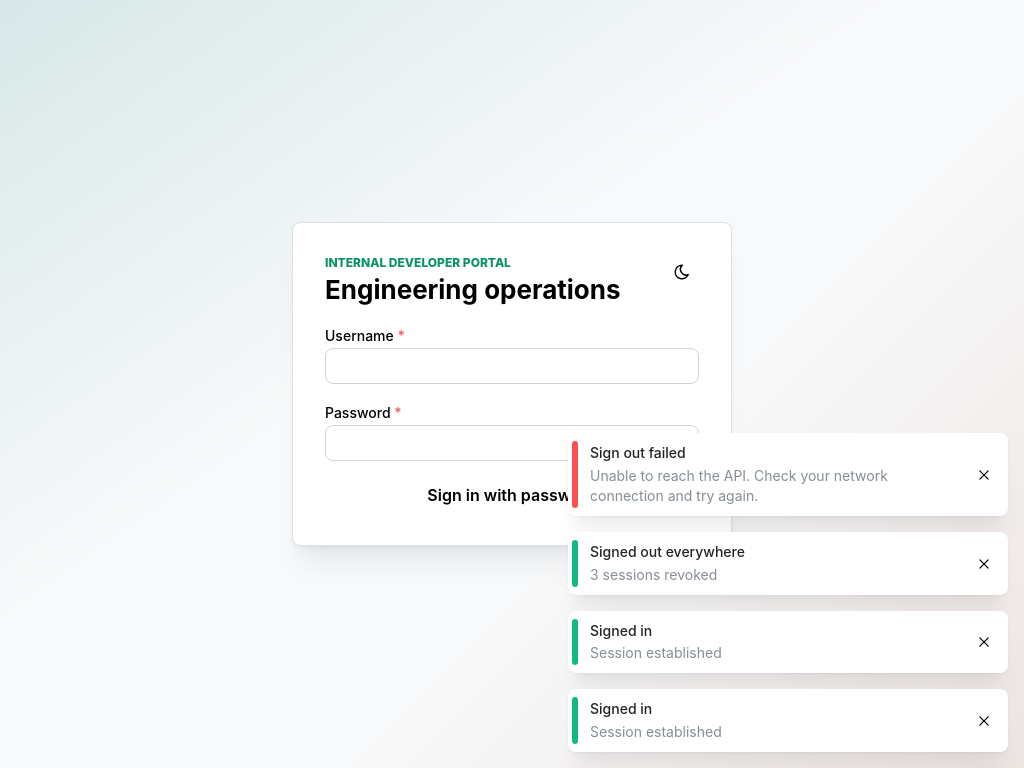
Test: App cookie session lifecycle › rejects a password login whose cookie session is not a password session
The image size is (1024, 768).
In the field labelled "Username *": (512, 366) [325,348,699,384], type "portal-user"
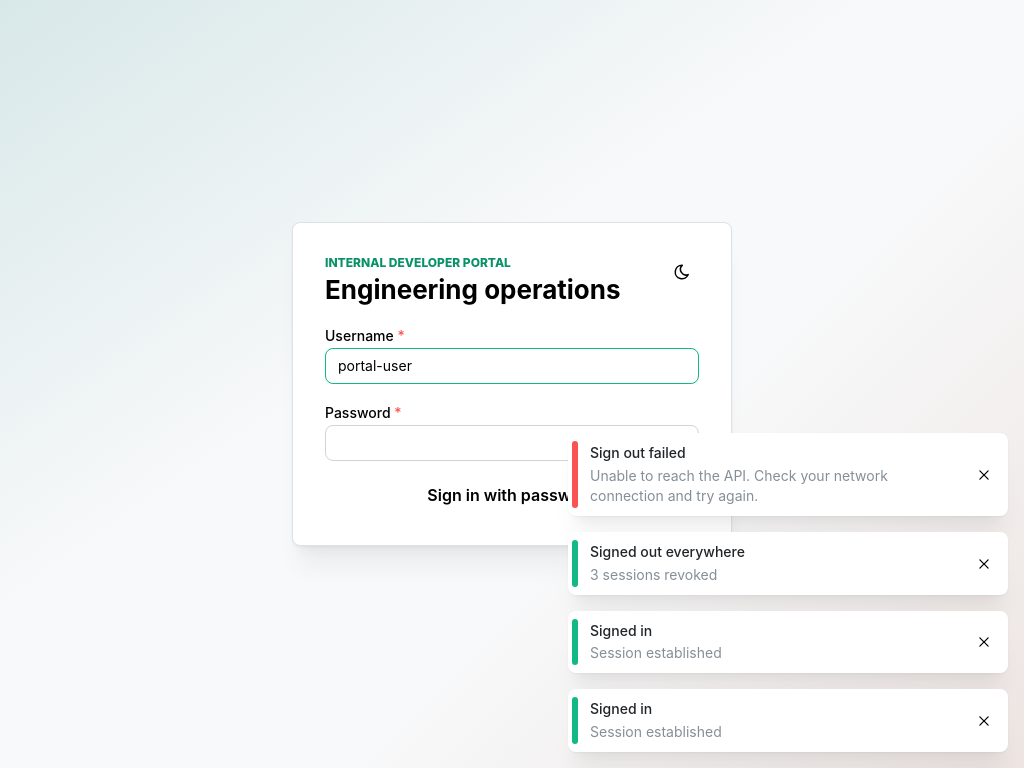
In the password field labelled "Password *": (512, 443) [326,426,698,460], type "correct-password"
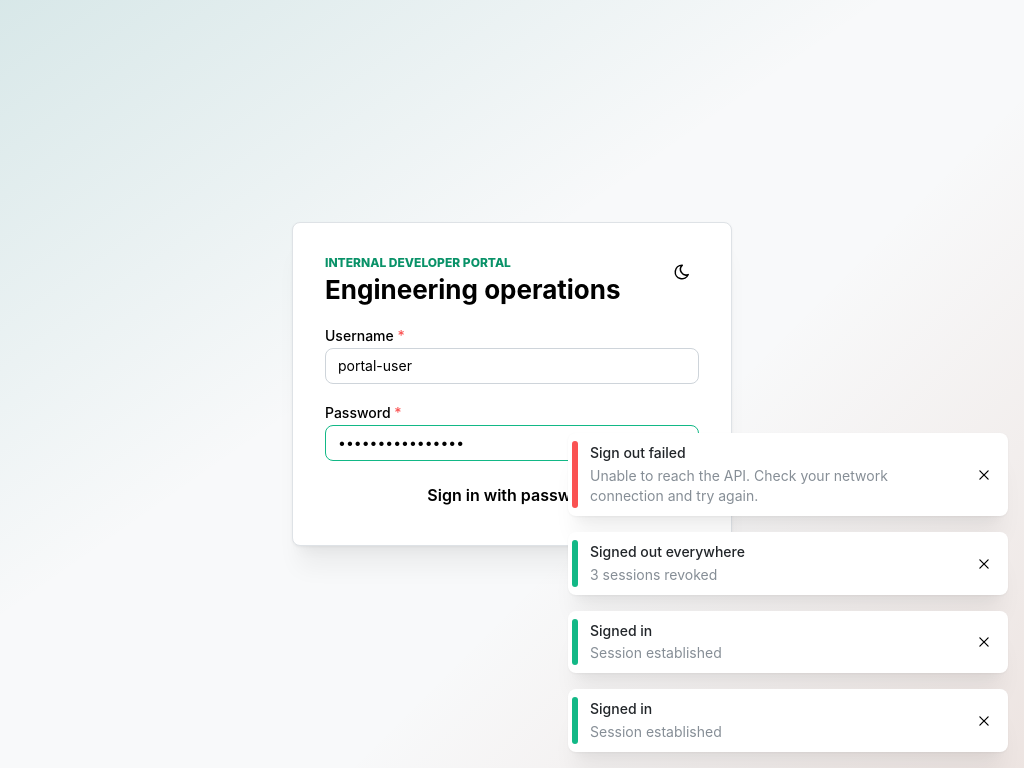
Click the button "Sign in with password": (512, 495) [325,477,699,513]
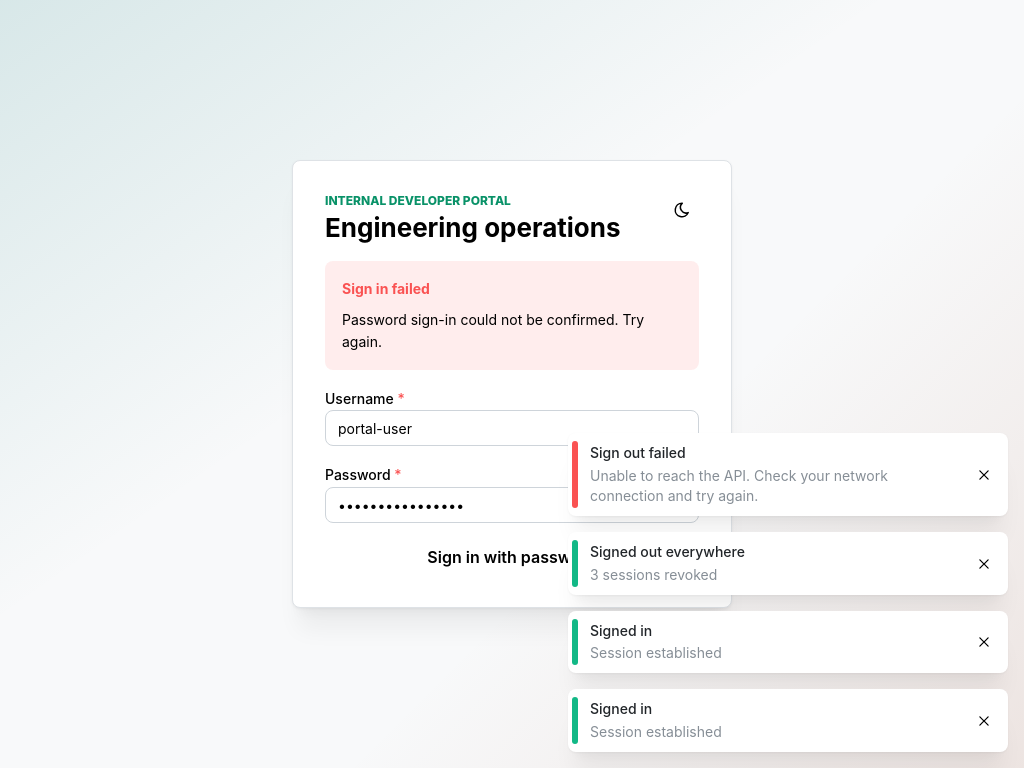
Now the text "Password sign-in could not be confirmed. Try again." is shown, box [342,309,682,353]
